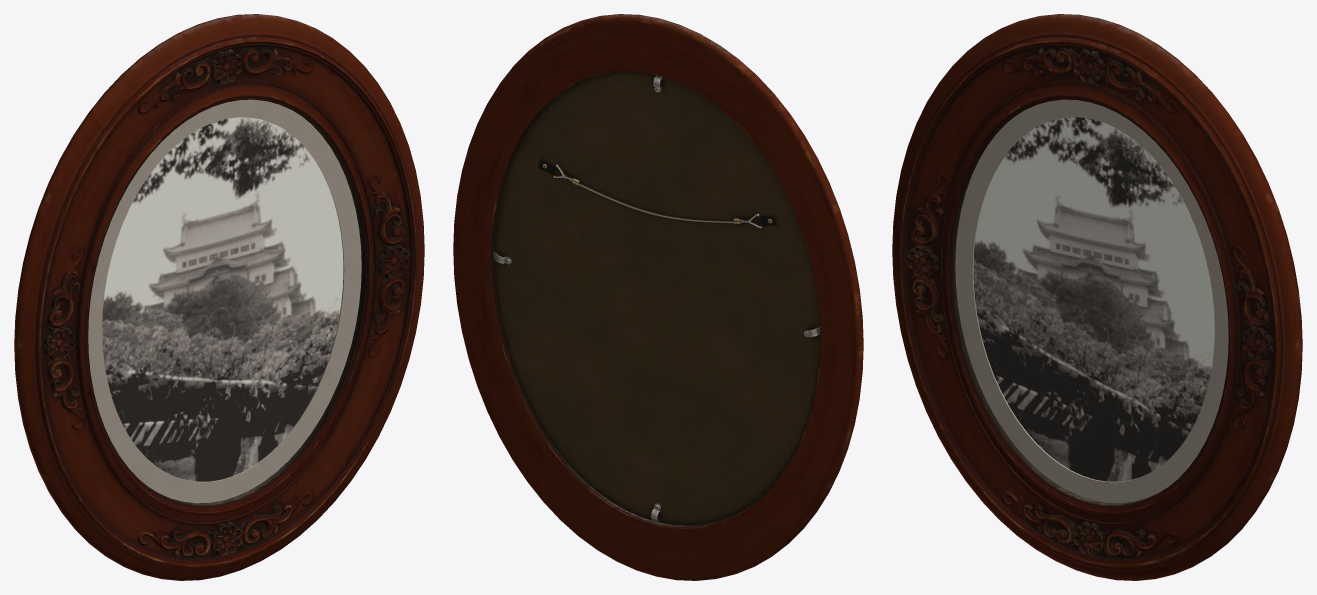
File: ph_hanging_picture_frame_03.glb
3 renders of one model, left to right at view 1: azimuth 30°, elevation 25°; view 2: azimuth 150°, elevation 25°; view 3: azimuth 330°, elevation 25°, orthographic.
Parts seen in each view (by area): view 1: hanging_picture_frame_03; view 2: hanging_picture_frame_03; view 3: hanging_picture_frame_03.
Part boxes in pixels (x1,y1,x2,y2): hanging_picture_frame_03: [14, 14, 424, 580]; hanging_picture_frame_03: [453, 14, 863, 580]; hanging_picture_frame_03: [892, 14, 1302, 580].
Bounding box in the file's own units: 0.385 × 0.5024 × 0.0207.
2 materials, 2 textured.
